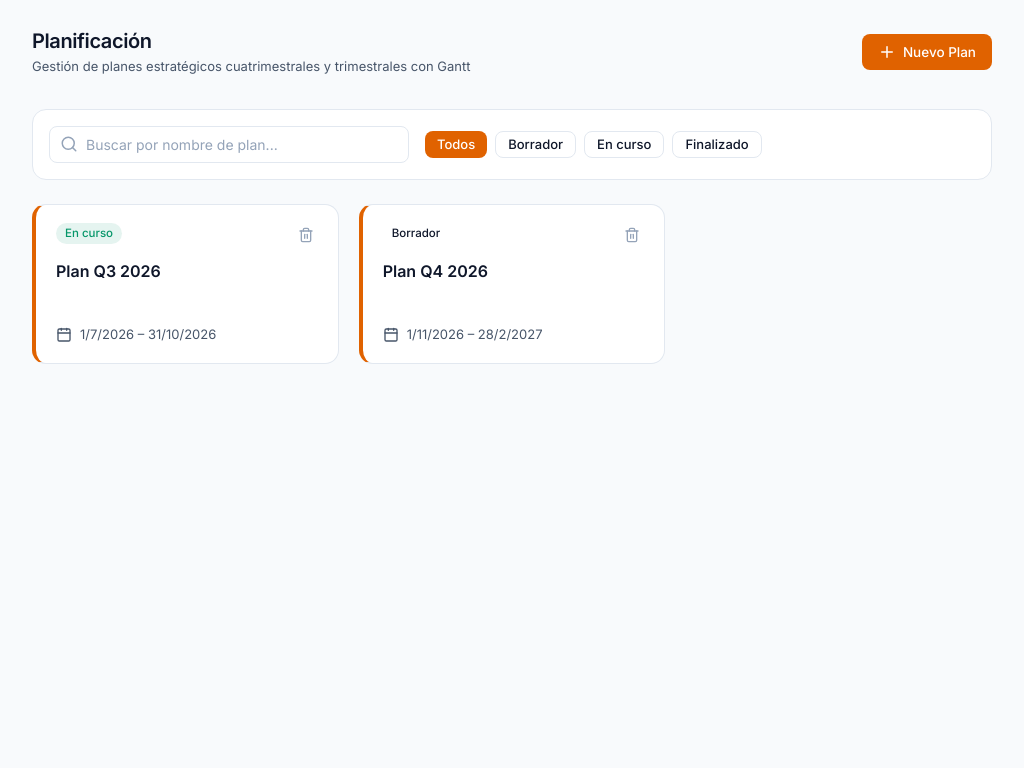
Test: Componente Planificacion › debe abrir el modal para crear nuevo plan y enviar datos
Expected: the heading "Plan Q3 2026" is shown, x1=56 y1=260 x2=161 y2=280
// Hacer click en "Nuevo Plan"
Step 1. Click the button "Nuevo Plan" → x=927, y=52, box x1=862 y1=34 x2=992 y2=70
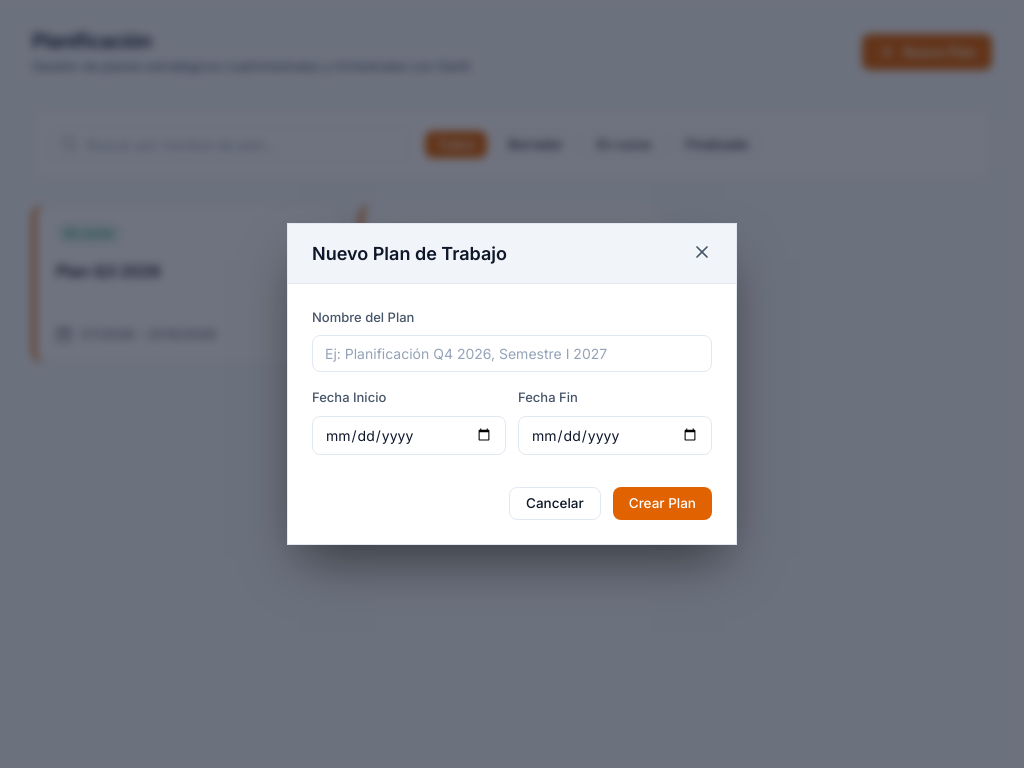
Step 2. Type "Plan Q1 2027" into the field labelled "Nombre del Plan" → x=512, y=354, box x1=312 y1=335 x2=712 y2=372
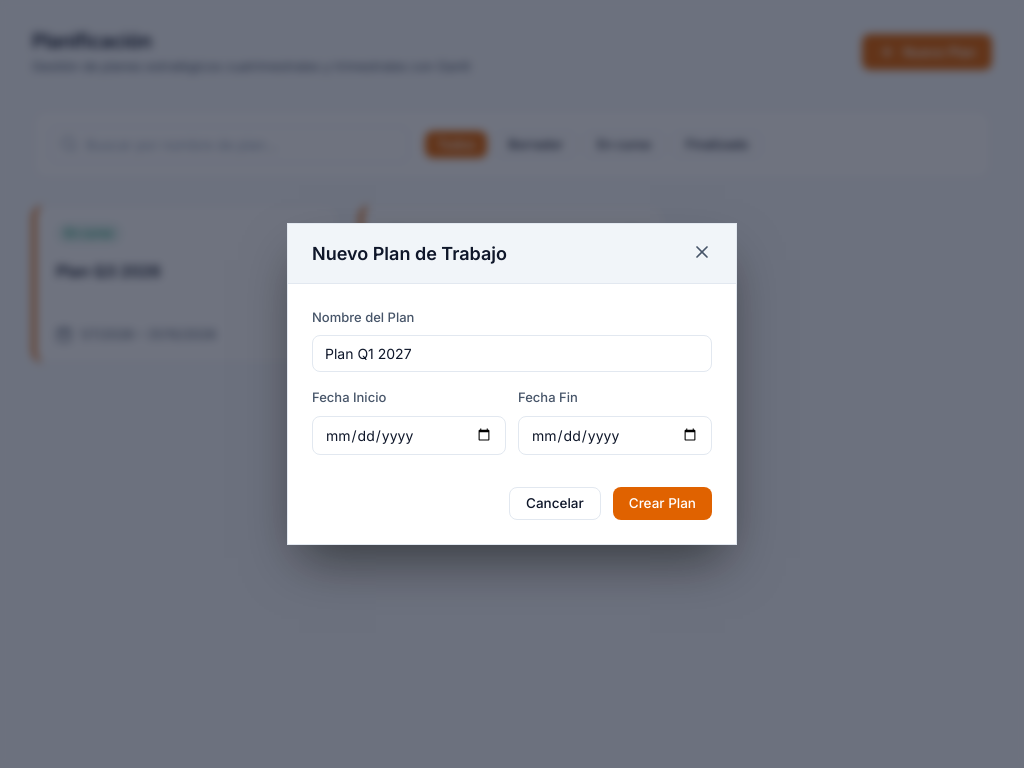
Step 3. Type "2027-03-01" into the date field labelled "Fecha Inicio" → x=409, y=435, box x1=312 y1=416 x2=506 y2=455
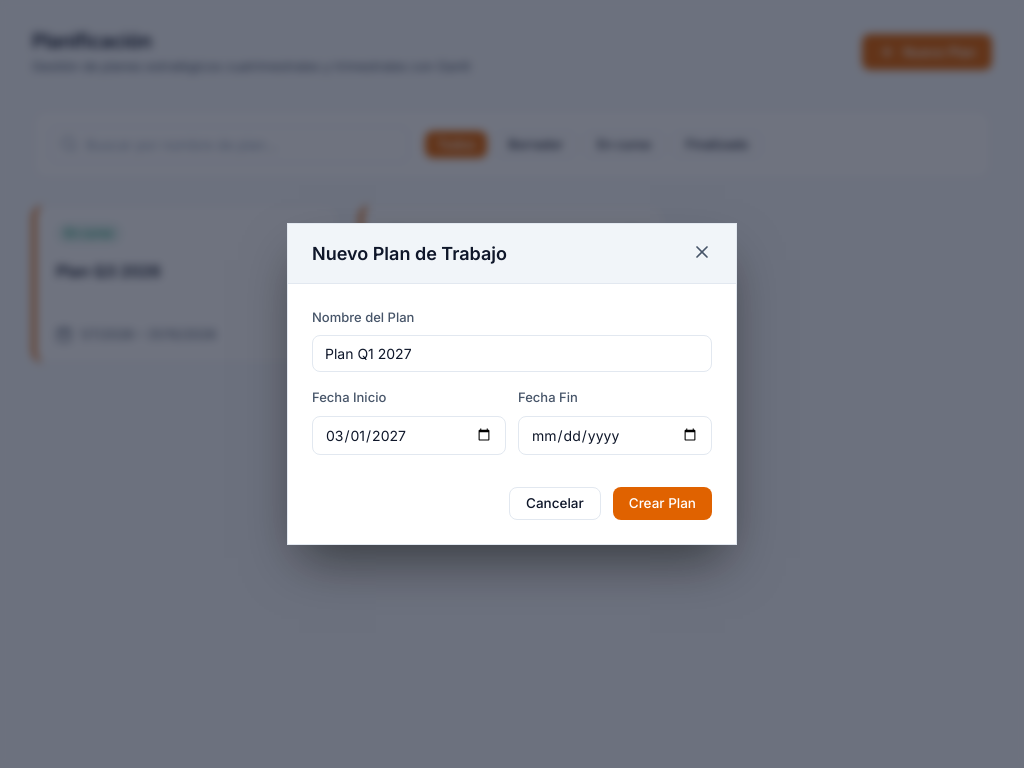
Step 4. Type "2027-06-30" into the date field labelled "Fecha Fin" → x=615, y=435, box x1=518 y1=416 x2=712 y2=455
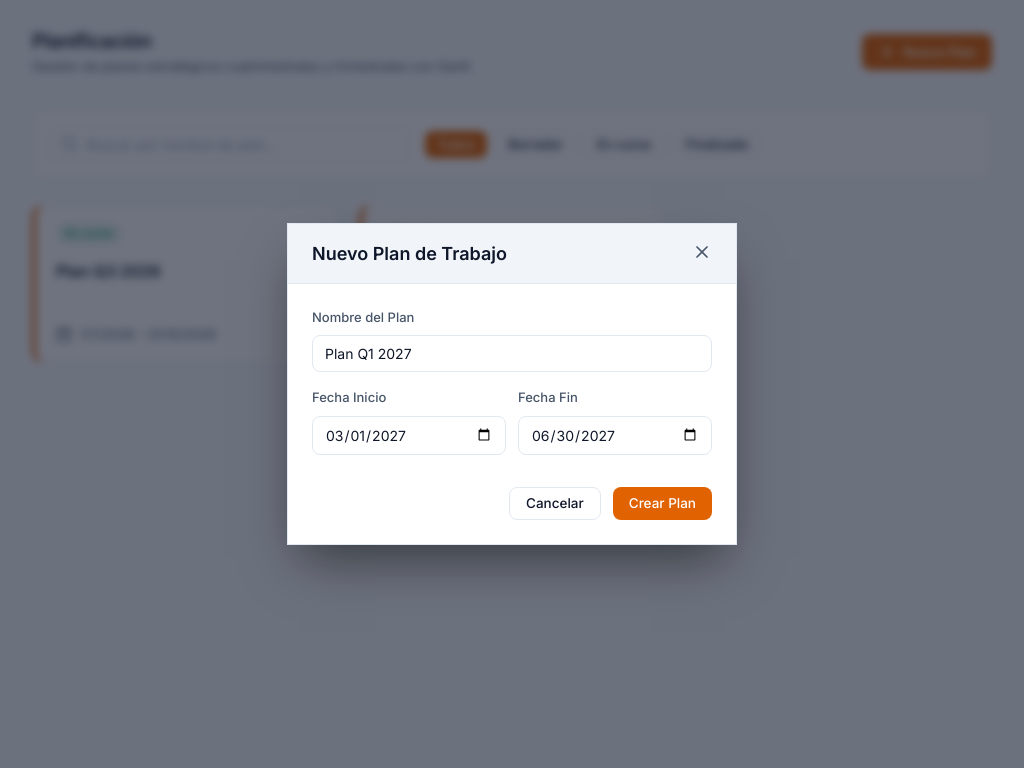
Step 5. Click the button "Crear Plan" → x=662, y=504, box x1=613 y1=487 x2=712 y2=520
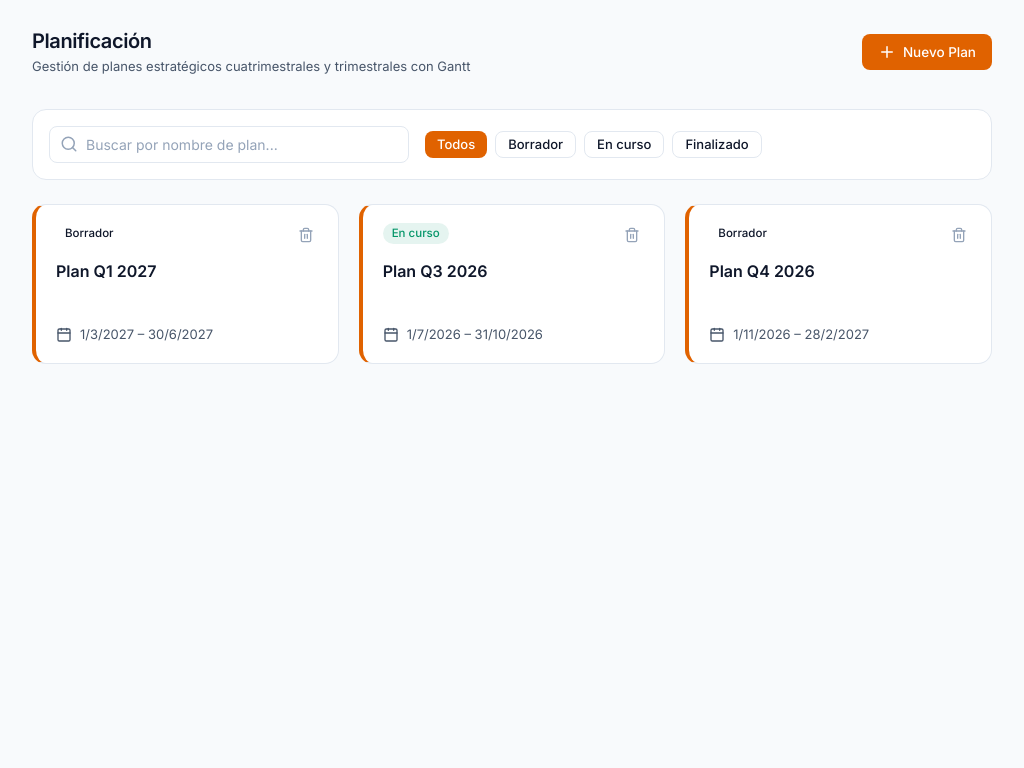
Now the heading "Plan Q1 2027" is shown, box x1=56 y1=260 x2=156 y2=280
